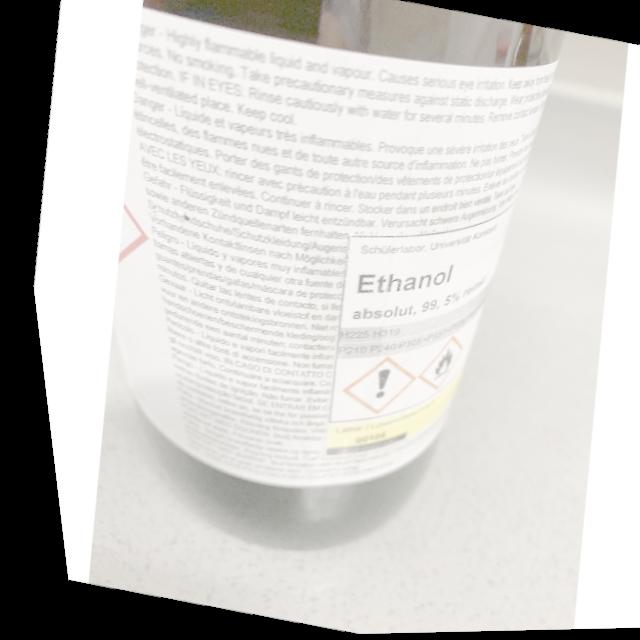flammable: (420, 346, 447, 383)
health-ozone layer hazard: (361, 368, 383, 402)
